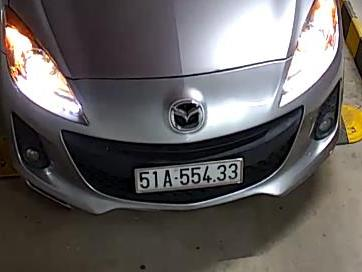car: (136, 160, 243, 193)
